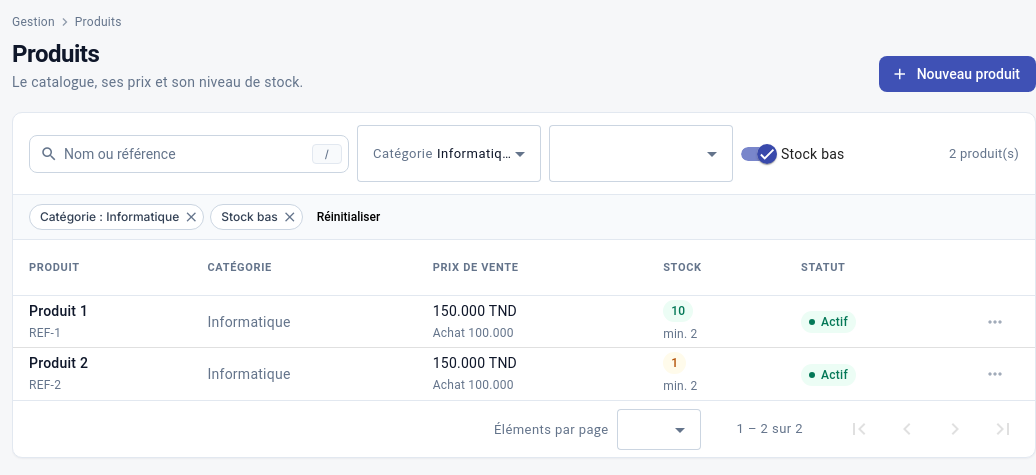
Test: ProductListComponent › shows the active filters as chips and resets them all
Click the button with class "reset-filters" at (348, 217), box top-left (309, 203), bottom-right (388, 231)
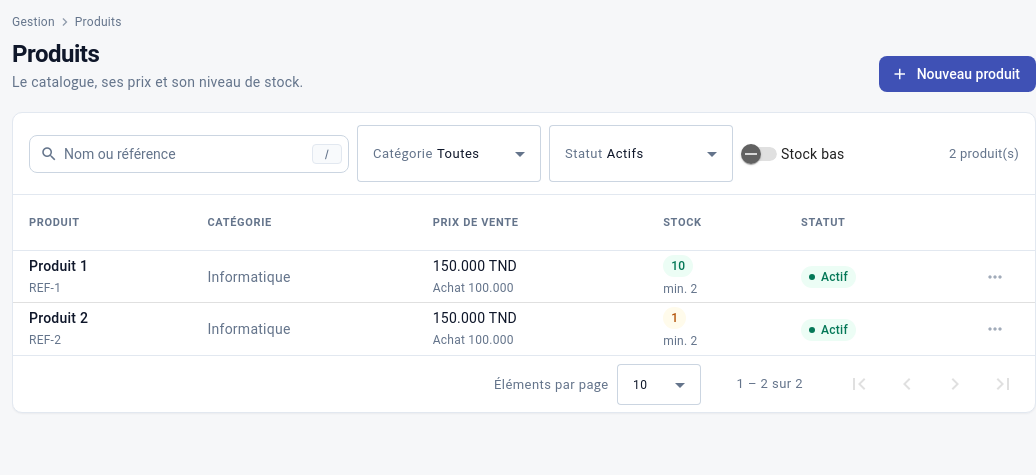
Now the element with class "active-filters" is gone
